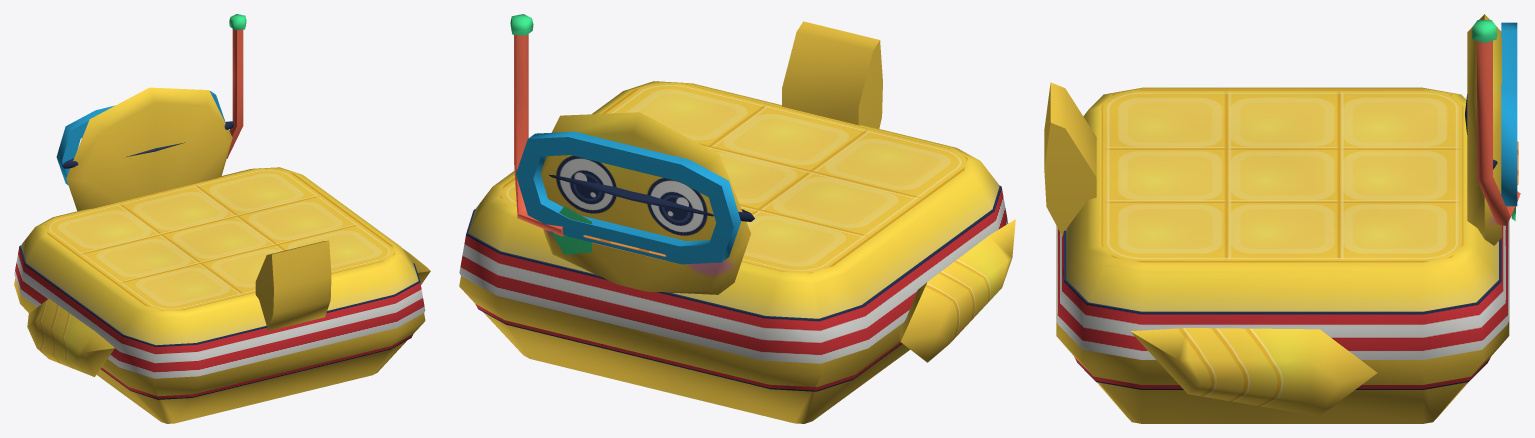
File: pool_duck_snorkel_lod1.glb
3 renders of one model, left to right at view 1: azimuth 30°, elevation 25°; view 2: azimuth 150°, elevation 25°; view 3: azimuth 270°, elevation 25°, orthographic. The views are drawn at different scales.
Visible parts, largest first — view 1: pool_duck_snorkel_LOD1; view 2: pool_duck_snorkel_LOD1; view 3: pool_duck_snorkel_LOD1.
Boxes of the visible parts, x1,y1,x2,y2 form: pool_duck_snorkel_LOD1: (14, 14, 430, 423); pool_duck_snorkel_LOD1: (459, 14, 1015, 423); pool_duck_snorkel_LOD1: (1044, 14, 1520, 423).
Bounding box in the file's own units: 12 × 9 × 10.
1 material, 1 textured.
